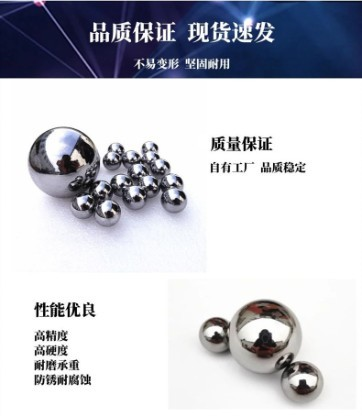ironball: (228, 298, 302, 373), (27, 126, 99, 198), (280, 360, 323, 403), (198, 316, 229, 352), (93, 198, 121, 226), (69, 191, 96, 218), (160, 187, 187, 212), (122, 184, 146, 210), (137, 174, 160, 197), (110, 172, 132, 196), (88, 179, 112, 200), (127, 162, 149, 183), (160, 172, 183, 192), (149, 158, 170, 178), (102, 151, 121, 170), (121, 149, 140, 168), (140, 150, 159, 166), (107, 142, 124, 155), (141, 140, 158, 153)
